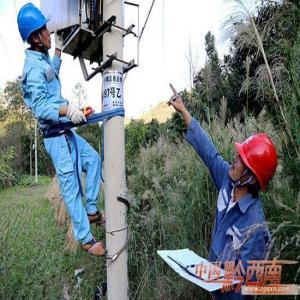blue: (17, 3, 53, 55)
red: (228, 133, 279, 196)
